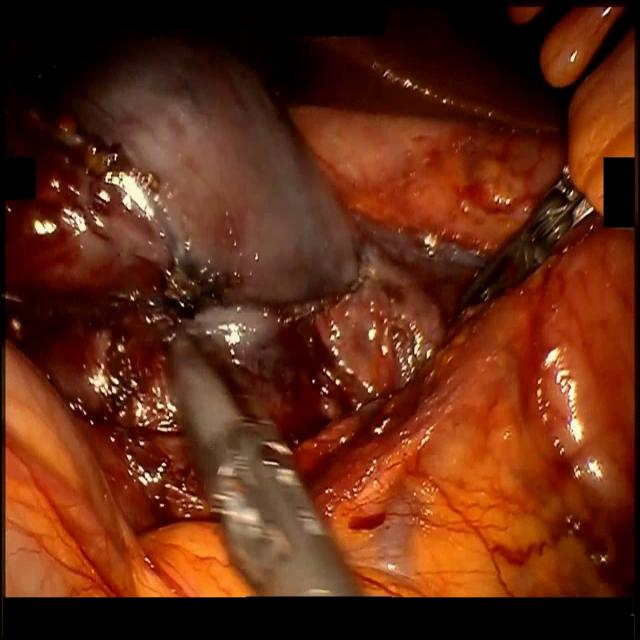surgical-area: (2, 1, 640, 598)
surgical-tool: (168, 329, 368, 598), (456, 161, 592, 320)
